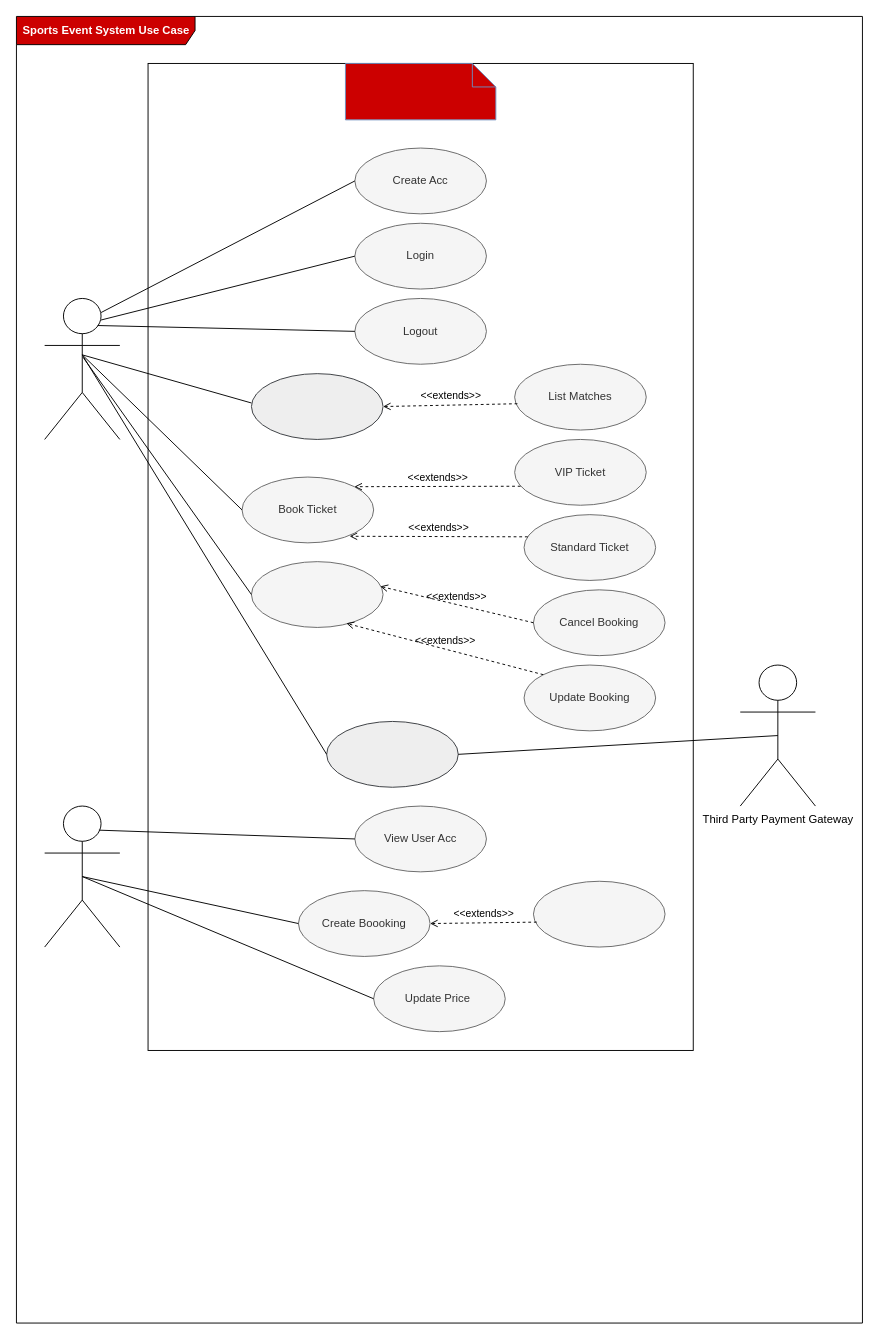
The diagram is 879 pixels wide and 1340 high, and some of its shapes have lost their labels. The box of each missing label's shape, as (x1, y1, x2, y2) in pixels:
Admin: (44, 805, 120, 947)
Manage Booking: (251, 561, 383, 627)
payments: (326, 721, 458, 787)
System Boundary: (345, 63, 496, 120)
Update Matches: (533, 880, 665, 947)
Users: (44, 298, 120, 439)
View Tournament: (251, 373, 383, 439)
